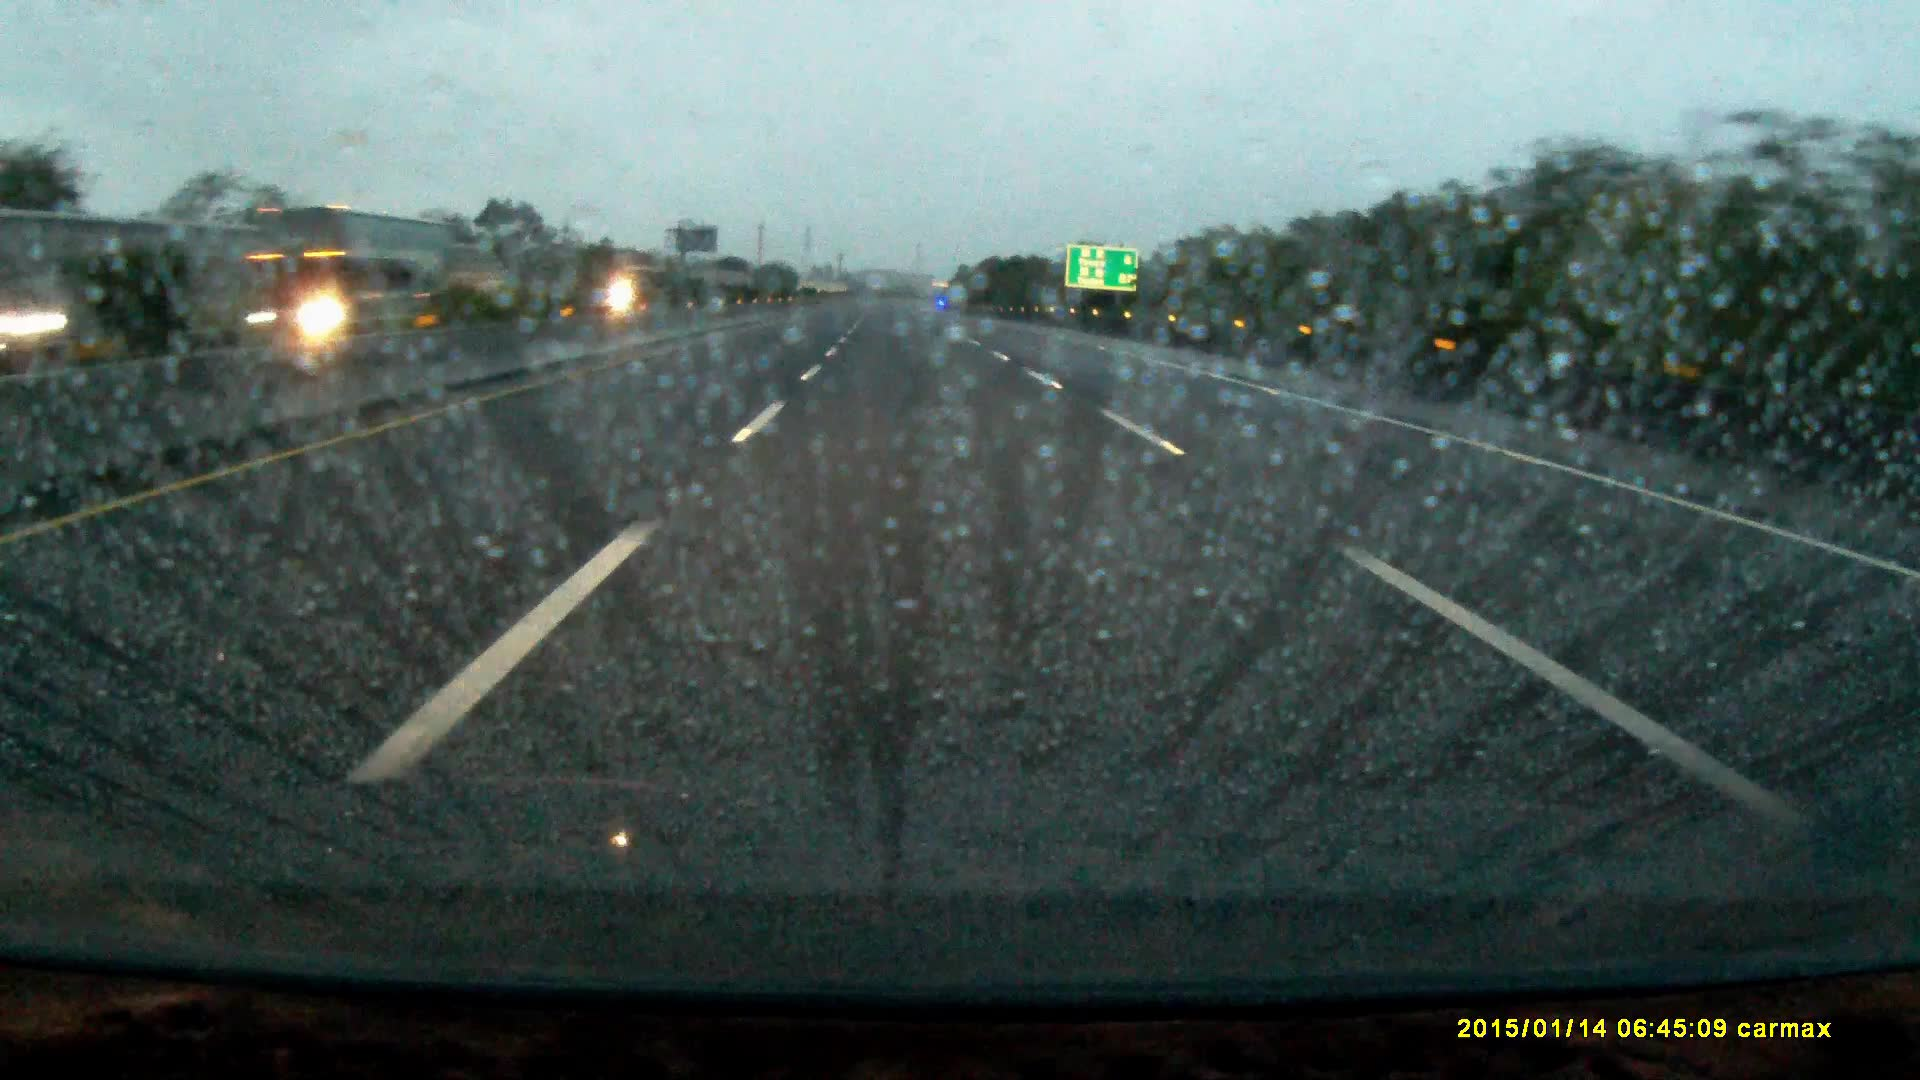vehicle: (249, 204, 458, 331), (1, 272, 162, 357), (620, 268, 680, 306)
